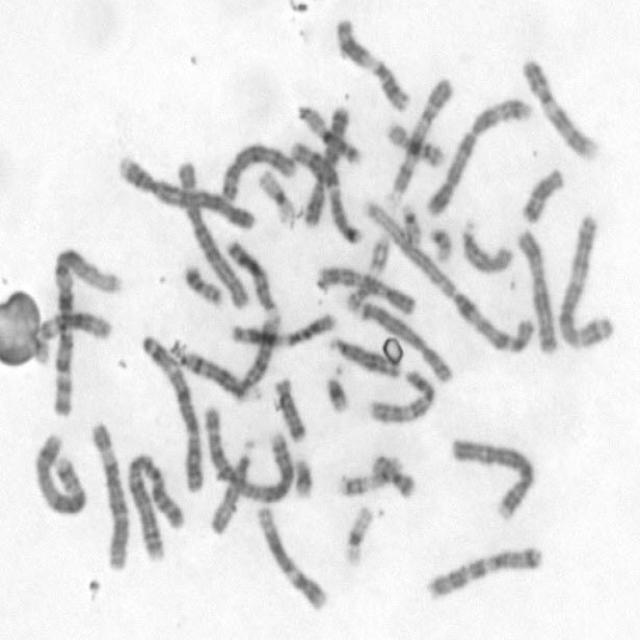A1: (360, 193, 538, 357), (44, 238, 122, 418)
A2: (201, 398, 295, 506), (122, 447, 188, 563)
A3: (136, 329, 205, 494), (554, 211, 616, 351)
B4: (113, 151, 258, 233), (447, 432, 538, 522)
B5: (422, 93, 533, 218), (31, 428, 88, 517)
C10: (314, 260, 418, 316), (365, 365, 437, 426)
C11: (332, 12, 414, 114), (226, 307, 338, 348)
C12: (250, 499, 330, 614), (23, 308, 113, 366)
C6: (174, 152, 252, 311), (85, 416, 131, 573)
C7: (284, 136, 364, 247), (421, 540, 545, 603)
C8: (354, 295, 455, 384), (219, 139, 298, 202)
C9: (518, 52, 600, 162), (385, 73, 454, 198)
D13: (222, 238, 283, 321), (324, 332, 404, 380)
D14: (241, 302, 287, 394), (181, 346, 250, 404)
D15: (207, 436, 254, 538), (457, 214, 515, 277)
E16: (293, 100, 363, 164), (382, 117, 447, 169)
E17: (343, 230, 391, 312), (330, 450, 404, 498)
E18: (518, 162, 566, 225), (271, 374, 309, 443)
F19: (255, 167, 296, 229), (340, 499, 375, 568)
F20: (368, 450, 418, 500), (178, 259, 226, 308)
G21: (321, 360, 350, 414), (291, 452, 315, 501)
G22: (396, 198, 424, 247), (425, 222, 454, 264)
X: (514, 225, 560, 356)
